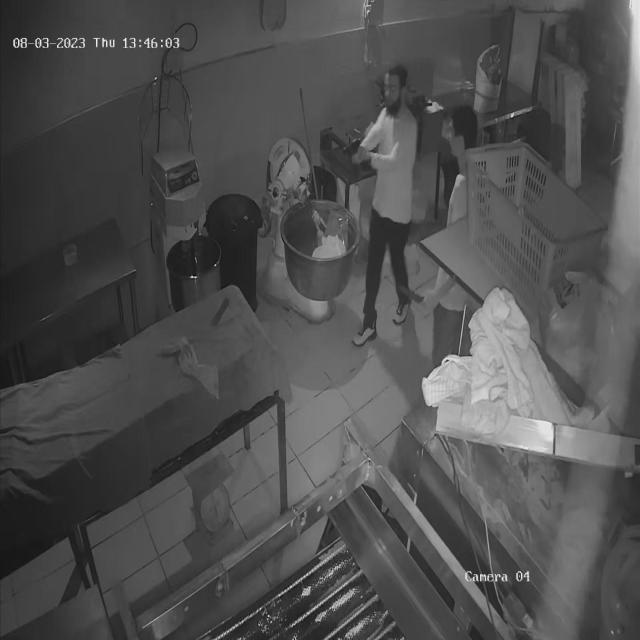Gun: (327, 126, 382, 176)
